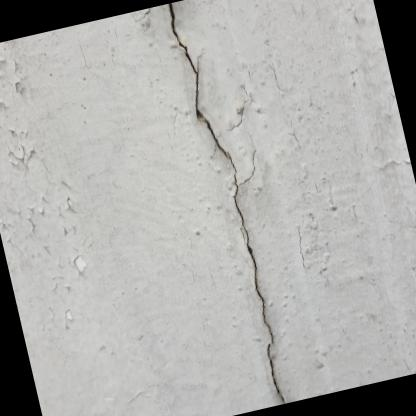crack: (166, 2, 290, 405)
